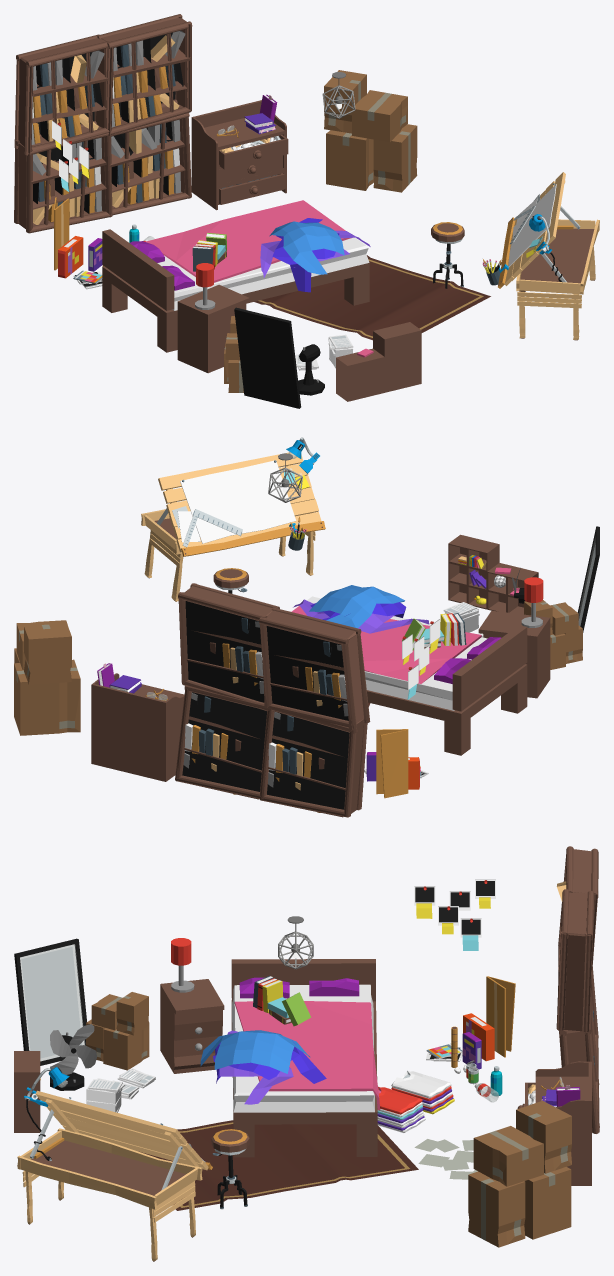
File: room 2.glb
3 views of the same model, one above another, from view 1: azimuth 30°, elevation 25°; view 2: azimuth 150°, elevation 25°; view 3: azimuth 270°, elevation 25° (orthographic). The views are drawn at different scales.
Parts seen in each view (by area): view 1: clothes; view 2: clothes; view 3: clothes.
Boxes of the visible parts, x1,y1,x2,y2 form: clothes: [14, 14, 599, 408]; clothes: [14, 437, 599, 817]; clothes: [14, 846, 599, 1261].
Size of the model in its own units: 2.02 by 1.01 by 2.24.
Materials: 113 (1 with a texture image).
